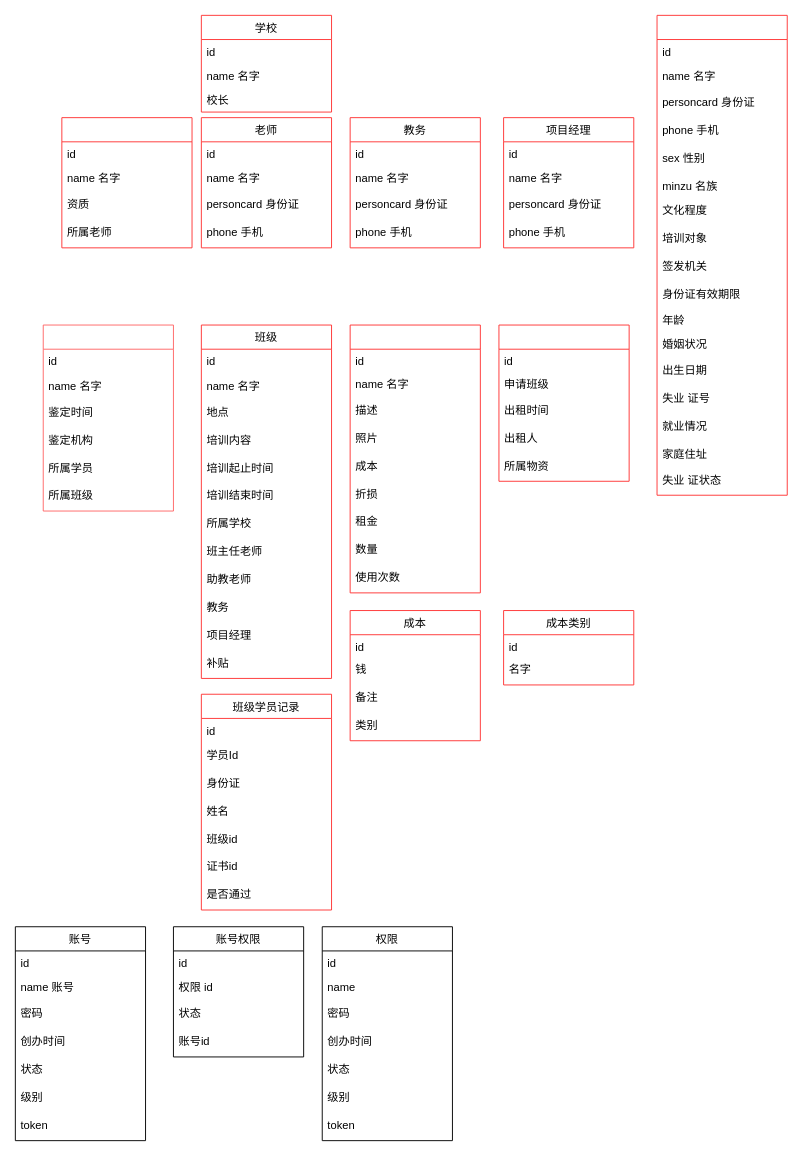
Image size: 803x1156. Some labels were removed from this diagram. Here are the shapes that lost their labels. From the top down, the box of each, then its label:
(61, 117, 192, 248): 证书
(656, 14, 787, 495): 学员
(42, 324, 173, 511): 合格（资格）证书编号
(498, 324, 629, 481): 物资记录
(349, 324, 480, 593): 仓库物资
